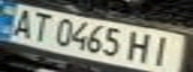0: (48, 16, 75, 47)
4: (66, 19, 90, 52)
5: (103, 25, 127, 60)
6: (84, 22, 106, 55)
A: (3, 7, 39, 38)
H: (124, 29, 157, 64)
I: (145, 34, 184, 68)
T: (24, 10, 57, 43)
